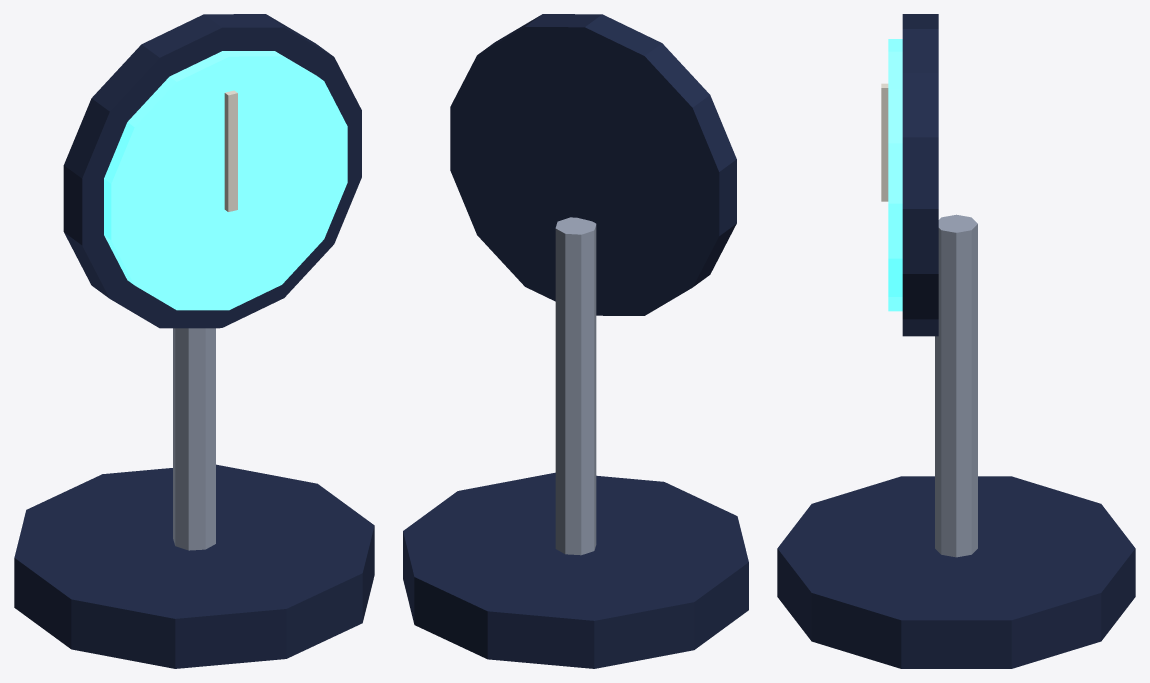
Rendered from stationpack-radar-display.glb.
3 renders of one model, left to right at view 1: azimuth 30°, elevation 25°; view 2: azimuth 150°, elevation 25°; view 3: azimuth 270°, elevation 25°, orthographic. The views are drawn at different scales.
Visible parts, largest first — view 1: radar_display; view 2: radar_display; view 3: radar_display.
Boxes of the visible parts, <box> form: radar_display: <box>14,14,374,668</box>; radar_display: <box>403,14,748,668</box>; radar_display: <box>777,14,1135,668</box>.
Bounding box in the file's own units: 0.9511 × 1.75 × 1.
